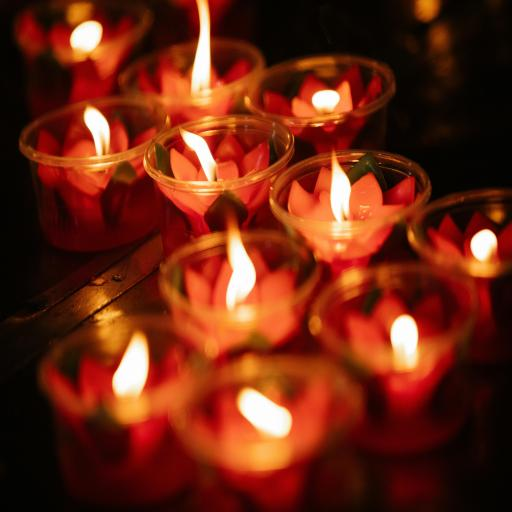candlelight: (296, 279, 490, 429), (164, 377, 354, 512), (38, 338, 213, 482), (18, 102, 168, 244), (133, 126, 308, 233), (239, 54, 408, 156), (171, 240, 318, 354), (274, 158, 448, 251), (120, 48, 266, 136), (410, 189, 512, 285)
fire: (237, 388, 292, 438), (226, 220, 256, 311), (112, 332, 149, 397), (57, 20, 111, 64), (179, 128, 218, 182), (191, 0, 211, 97), (390, 314, 419, 369), (330, 152, 351, 223), (84, 107, 110, 156), (470, 229, 498, 262), (312, 90, 340, 113)
